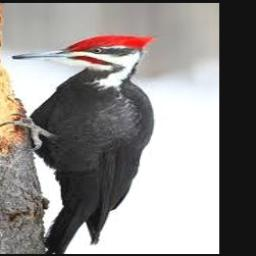Woodpecker: (0, 35, 153, 253)
